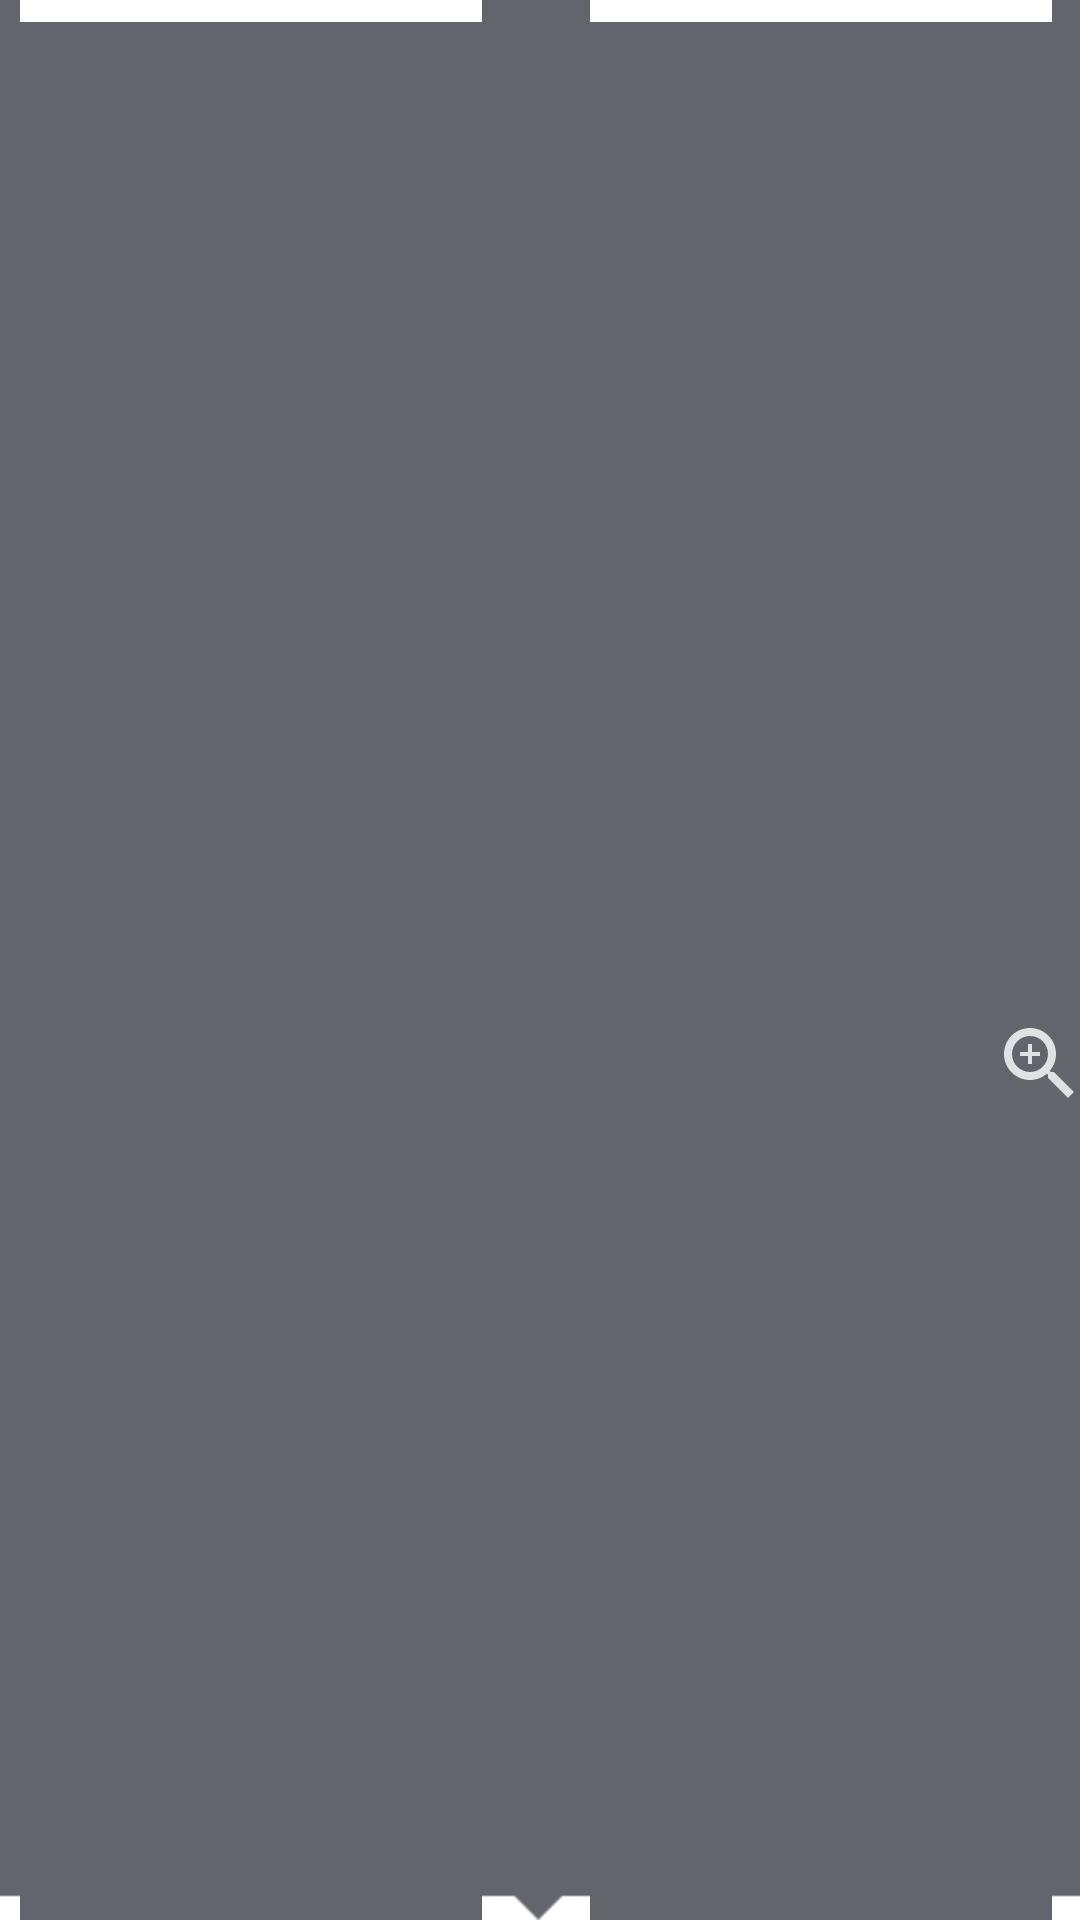

Where icons sit on this 1080px×1920px app screen, as (x1, y1, x2, y2):
detail: (1004, 1028, 1074, 1098)
